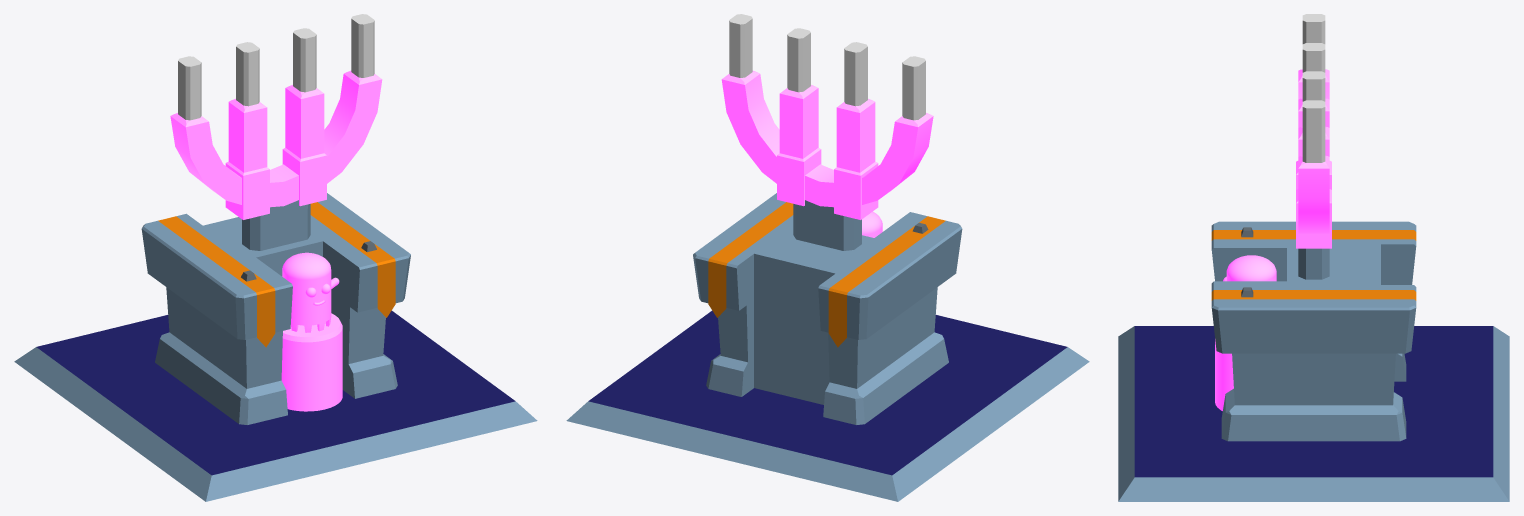
File: 16_aaltar_7.fbx
3 renders of one model, left to right at view 1: azimuth 30°, elevation 25°; view 2: azimuth 150°, elevation 25°; view 3: azimuth 270°, elevation 25°, orthographic. The views are drawn at different scales.
Parts seen in each view (by area): view 1: foundation_7; view 2: foundation_7; view 3: foundation_7.
Part boxes in pixels (bbox=[...]): foundation_7: bbox=[14, 14, 537, 501]; foundation_7: bbox=[566, 14, 1089, 501]; foundation_7: bbox=[1118, 14, 1509, 501].
Size of the model in its own units: 78.73 by 79.49 by 78.73.
